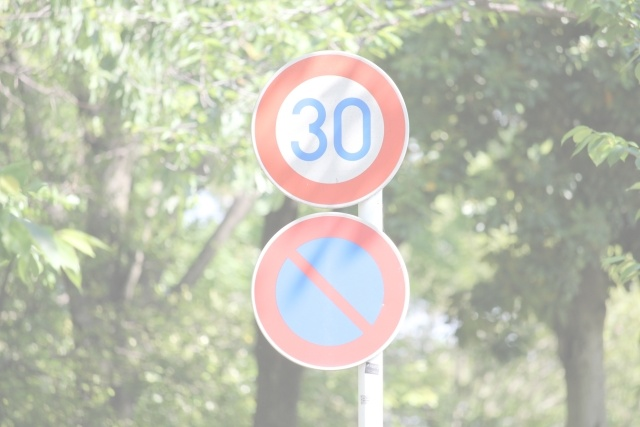Prohibition_sign: (256, 202, 405, 384)
